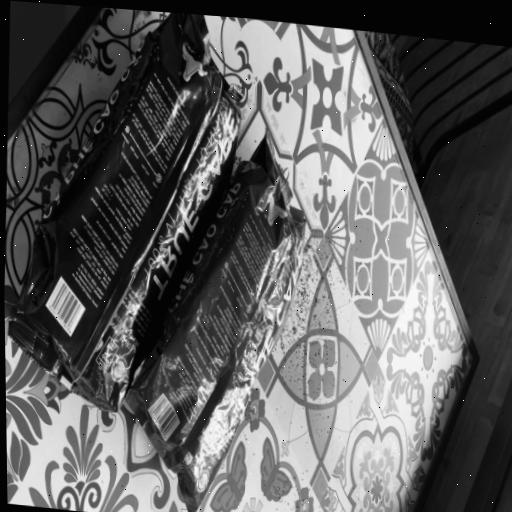cafe_hat: (8, 13, 241, 411)
cafe_xay: (125, 130, 306, 512)
